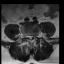CCS_normal: (29, 33, 31, 41)
LFS_severe_stenosis: (33, 33, 35, 39)
LLS_stenosis: (31, 33, 33, 39)
RFS_normal: (26, 33, 28, 39)
RLS_normal: (28, 33, 29, 39)
